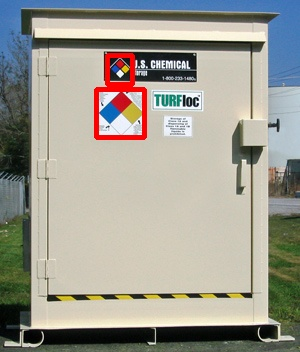nfpa: (96, 89, 144, 137), (107, 55, 132, 84)
